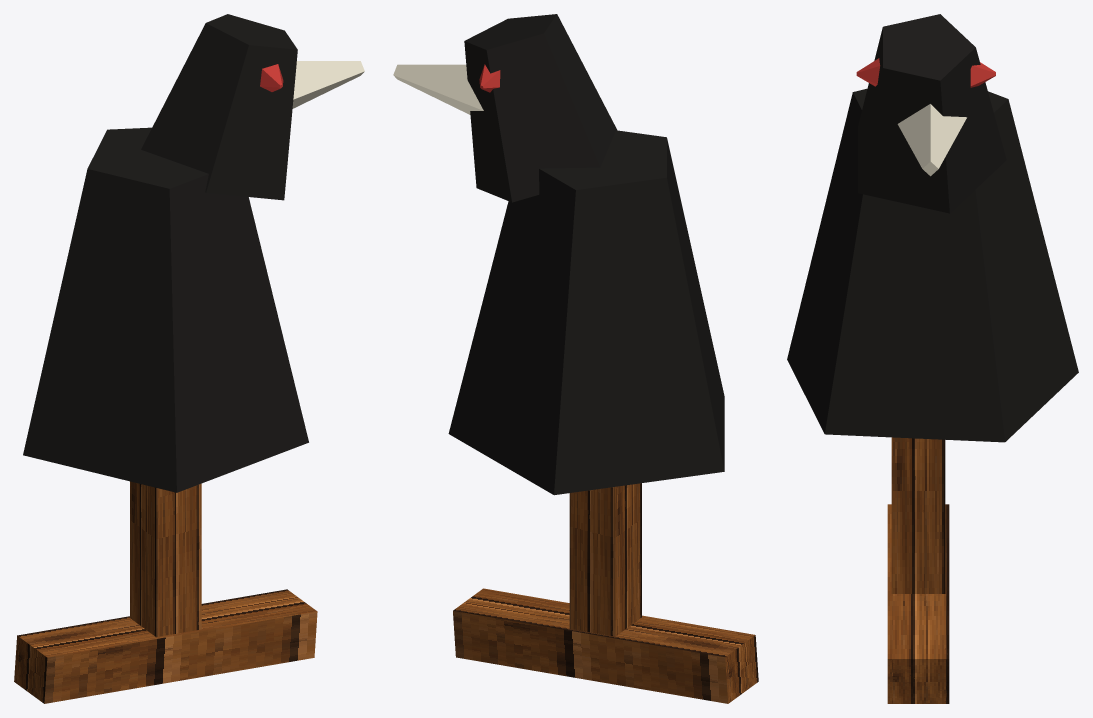
Rendered from BirdStatue.glb.
3 renders of one model, left to right at view 1: azimuth 30°, elevation 25°; view 2: azimuth 150°, elevation 25°; view 3: azimuth 270°, elevation 25°, orthographic.
Visible parts, largest first — view 1: BirdStatue; view 2: BirdStatue; view 3: BirdStatue.
Part boxes in pixels (x1,y1,x2,y2): BirdStatue: [14, 14, 364, 703]; BirdStatue: [393, 14, 758, 703]; BirdStatue: [787, 14, 1078, 703].
Bounding box in the file's own units: 0.1932 × 0.3479 × 0.1419.
Materials: 4 (1 with a texture image).
